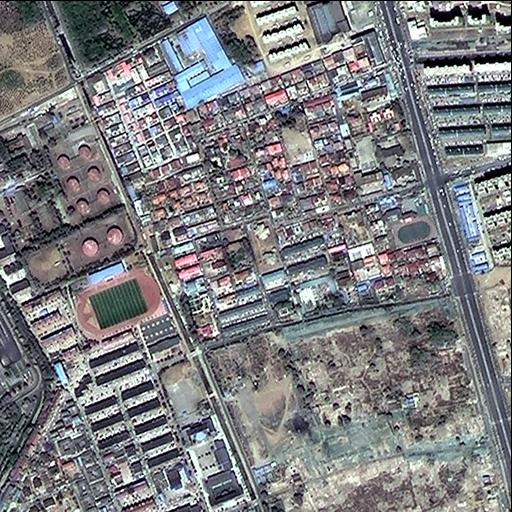school: (376, 185, 440, 249)
